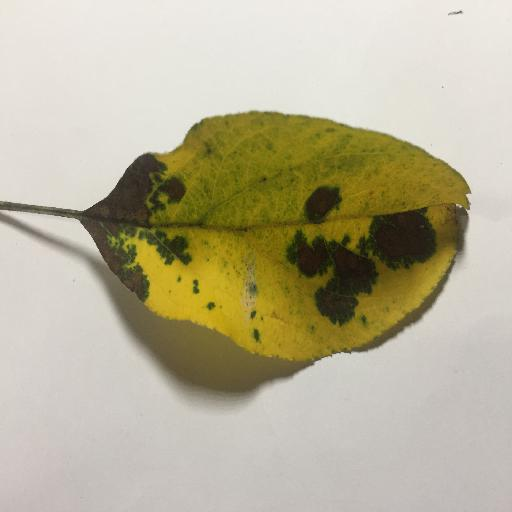Brown_Spot: (285, 170, 433, 327), (81, 143, 194, 303)
